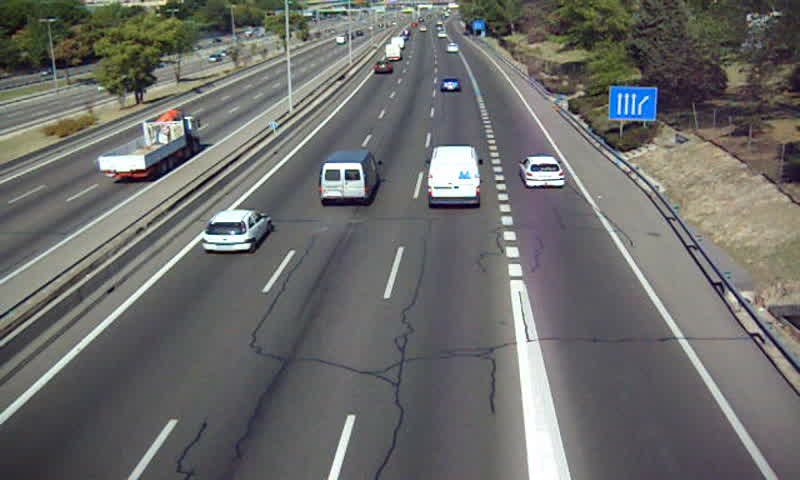car: (202, 210, 271, 254), (519, 155, 566, 188), (439, 76, 462, 92), (373, 61, 392, 75)
van: (320, 150, 381, 207), (428, 146, 481, 206), (385, 44, 402, 62)
